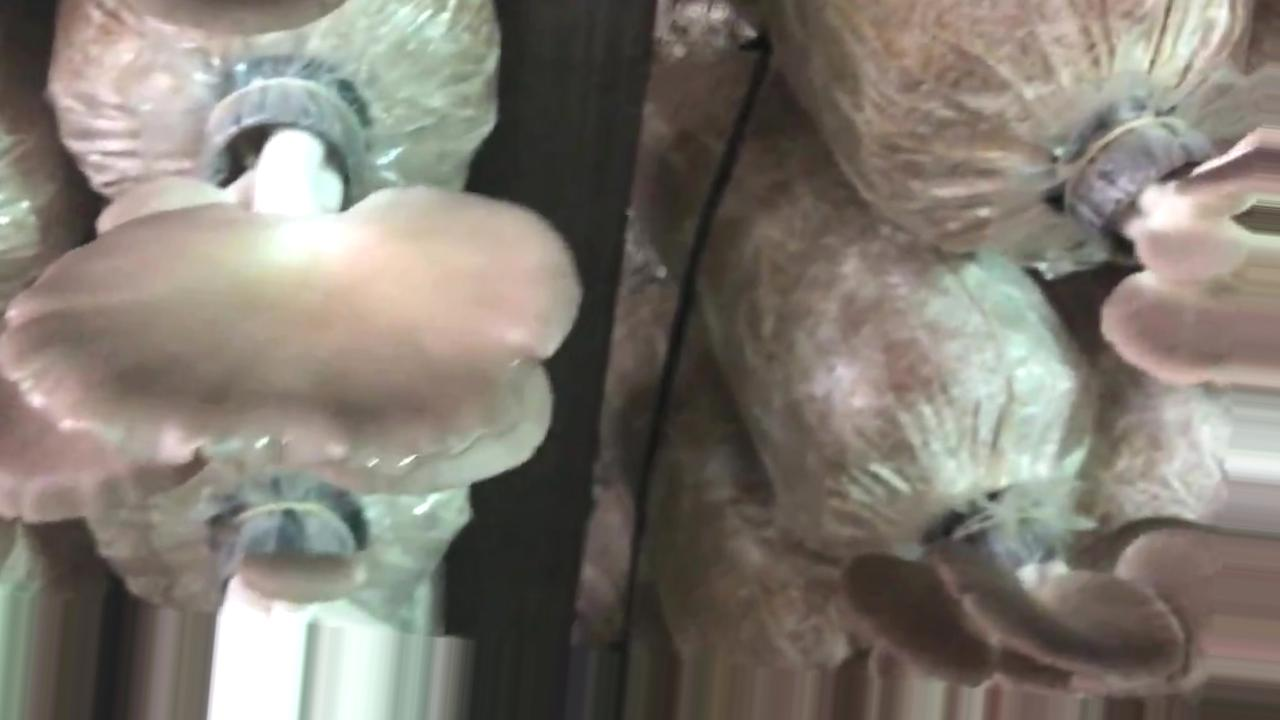nam: (1, 74, 584, 499), (835, 505, 1280, 698), (1089, 118, 1280, 388)
